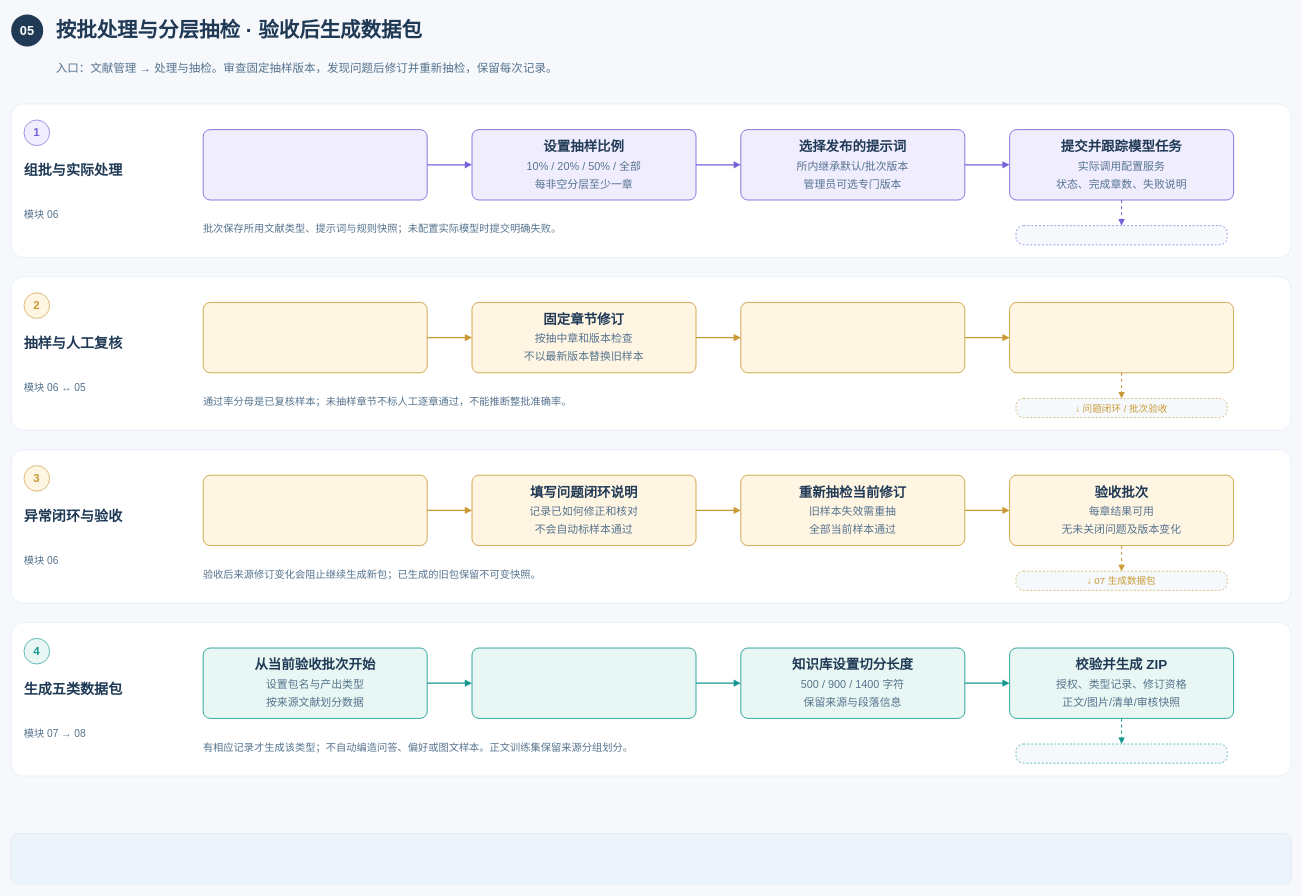
This 1302x896 diagram has some shape labels left out. Each missing label, with the centre of its shape:
"↓ 08 产出目录" goes at point 1121,753.
"↓ 分层随机样本" goes at point 1121,235.
"发现问题后修正 人工保存新修订 或实际模型重新整理" goes at point 314,510.
"回同一文献详情核对 PDF 与正文/解释/字段 图表与问答候选逐项看" goes at point 852,337.
"按两维随机抽样 文献类型 × 文本/表格/图像 样本清单持久保存" goes at point 314,337.
"记录通过或问题 问题说明必填 保留复核人、版本、时间" goes at point 1121,337.
"选定文献建立批次 论文/植物志/标本 报告/其他类型登记" goes at point 314,164.
"选择需要的数据类型 正文预训练 / SFT / 偏好 图文 / 知识库" goes at point 583,683.
"验收依据与采样版本一并入包；同一批次可生成多类产物。管理员控制包发布范围，所内创建默认供内部使用。" goes at point 651,859.
